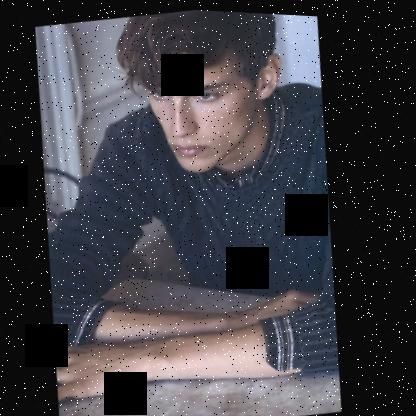Male: (125, 29, 299, 183)
